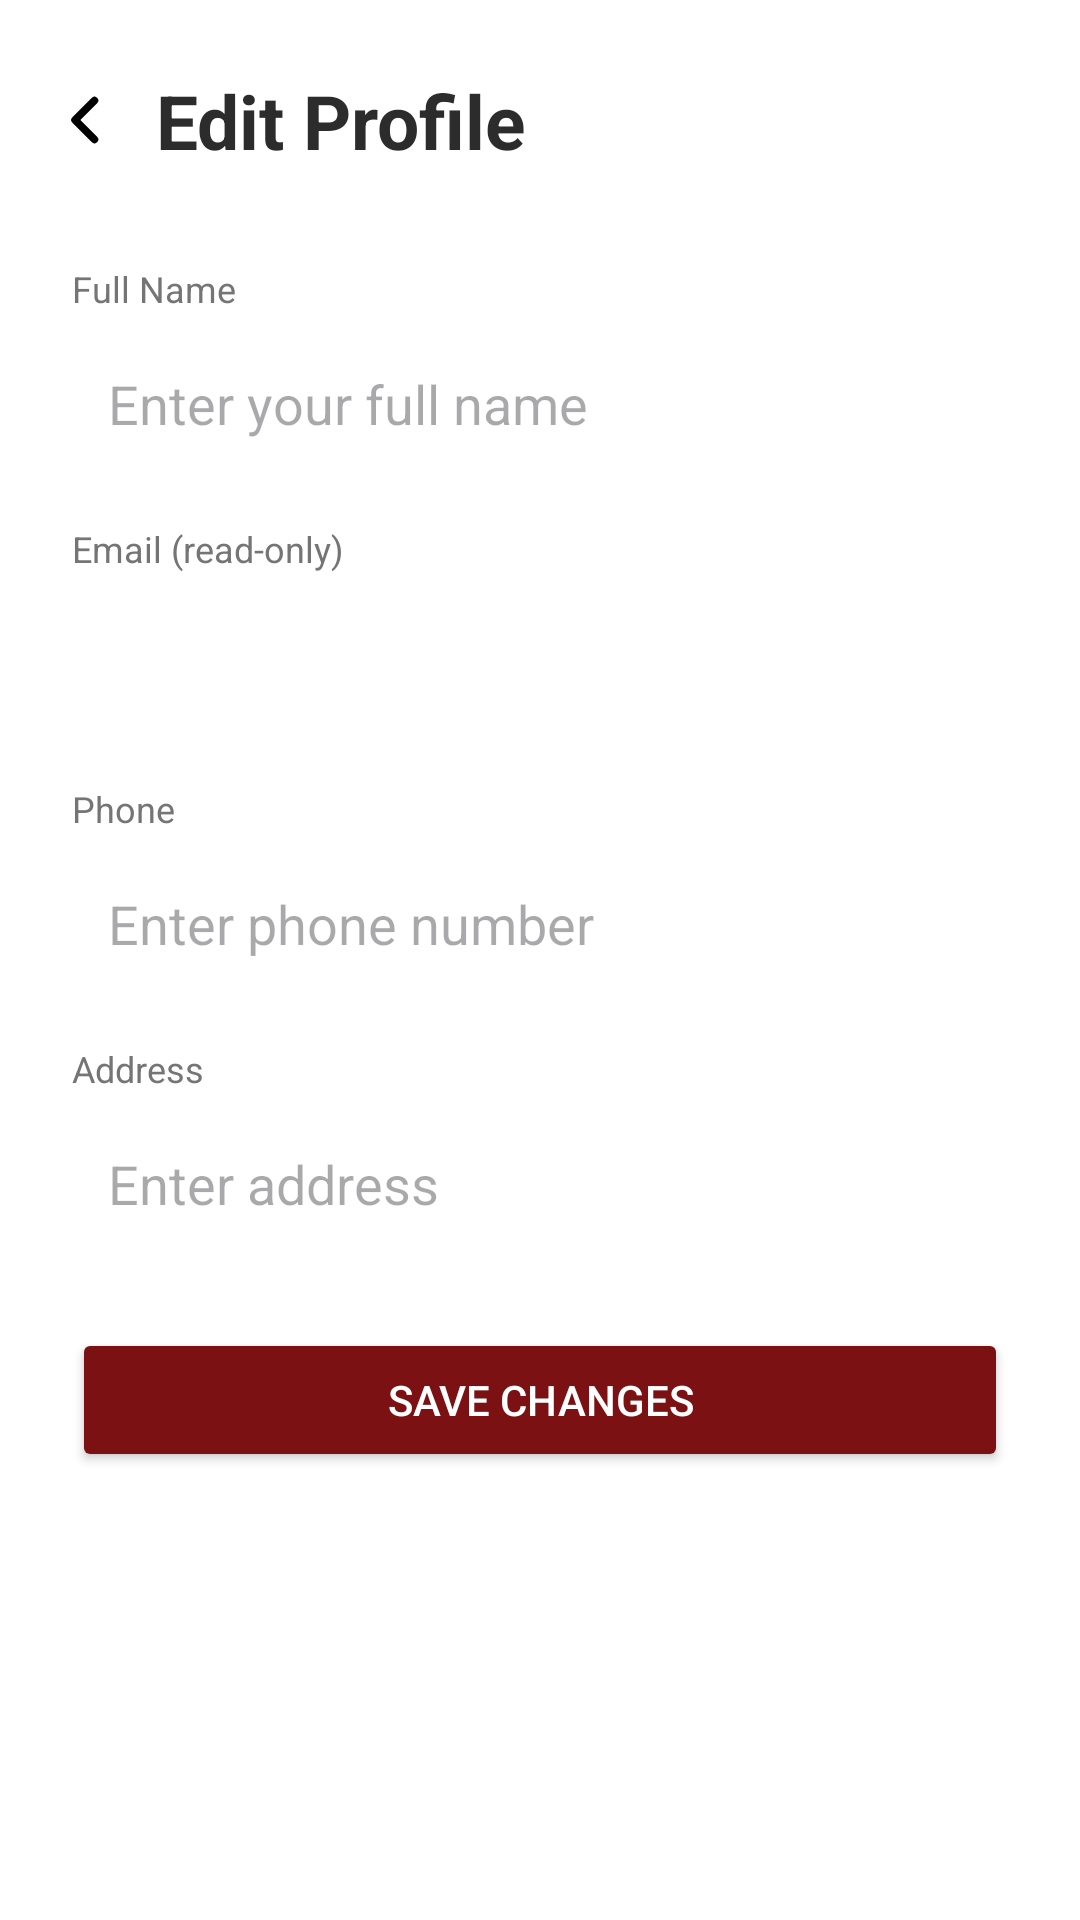

Screen size 1080 × 1920. Icon name, then its center in pixels as (x,y):
Back: (85,120)
